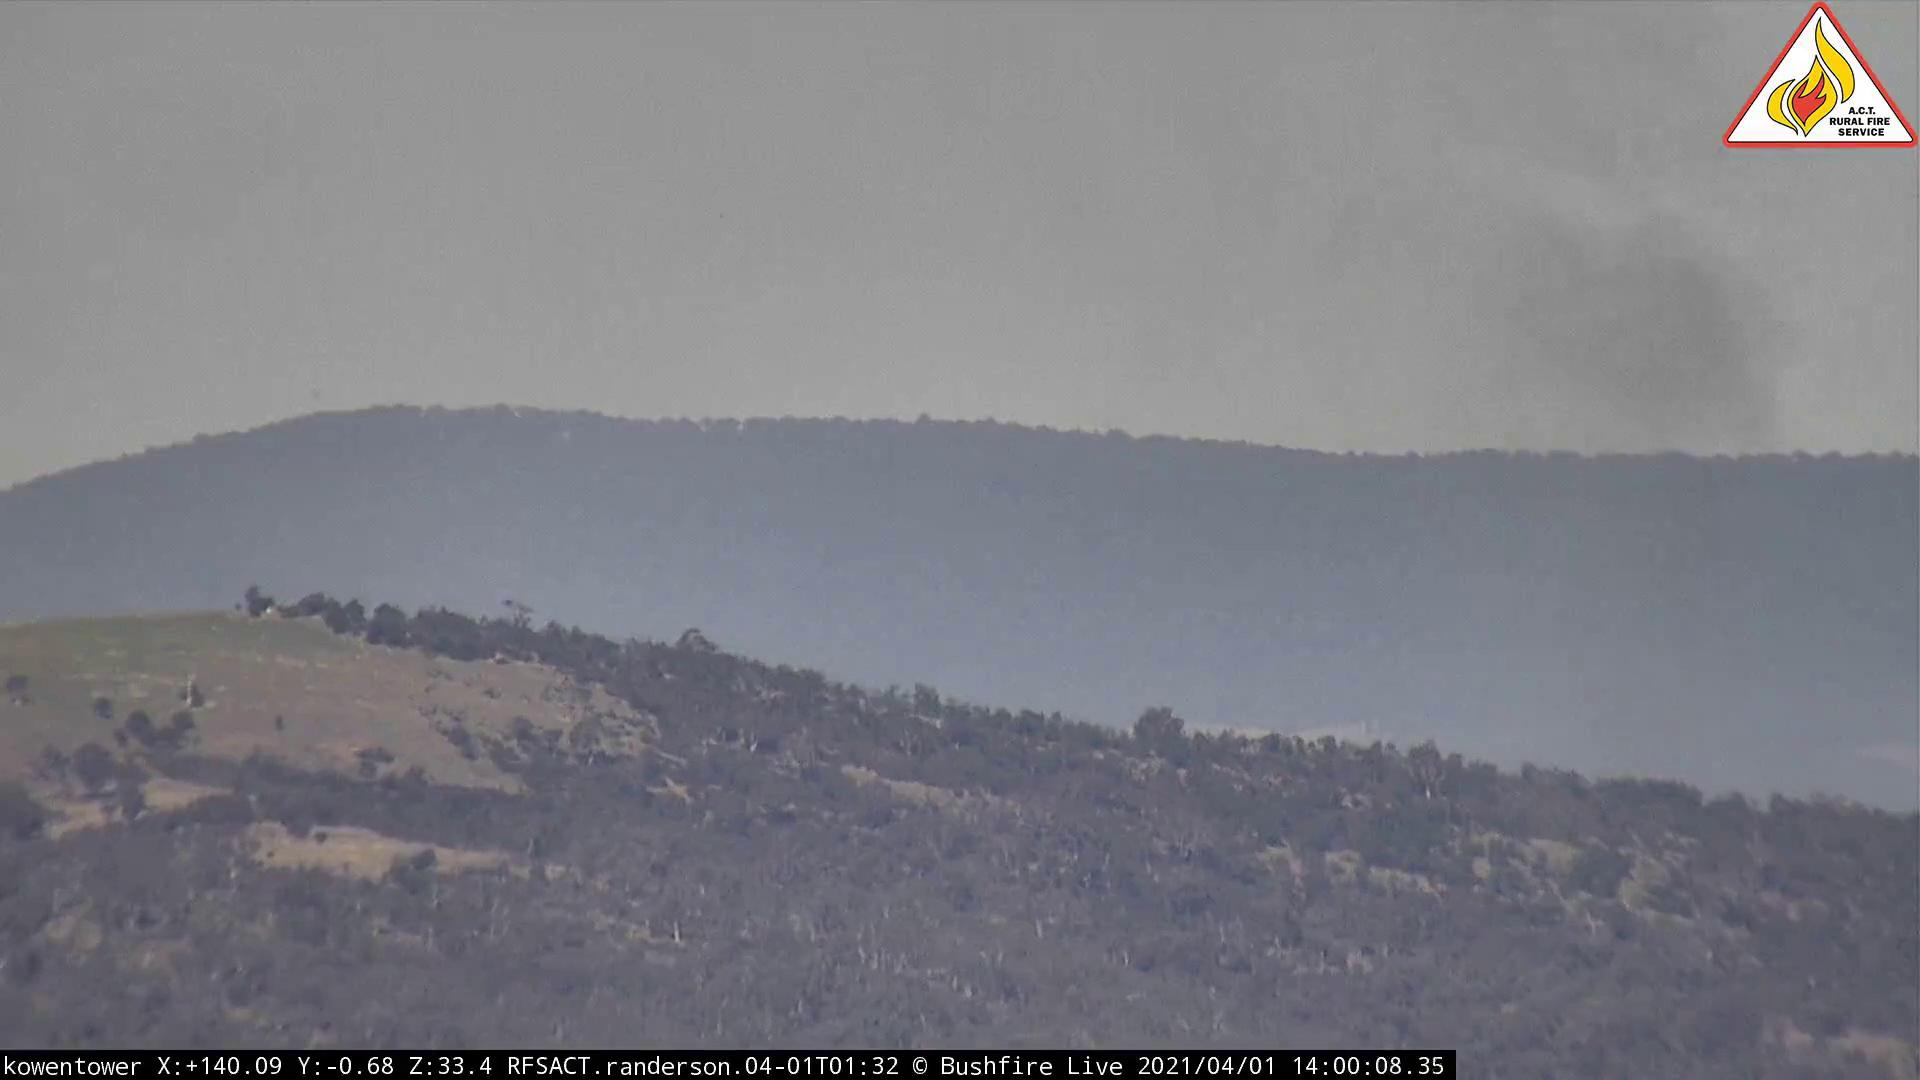Smoke: (1364, 171, 1817, 556)
